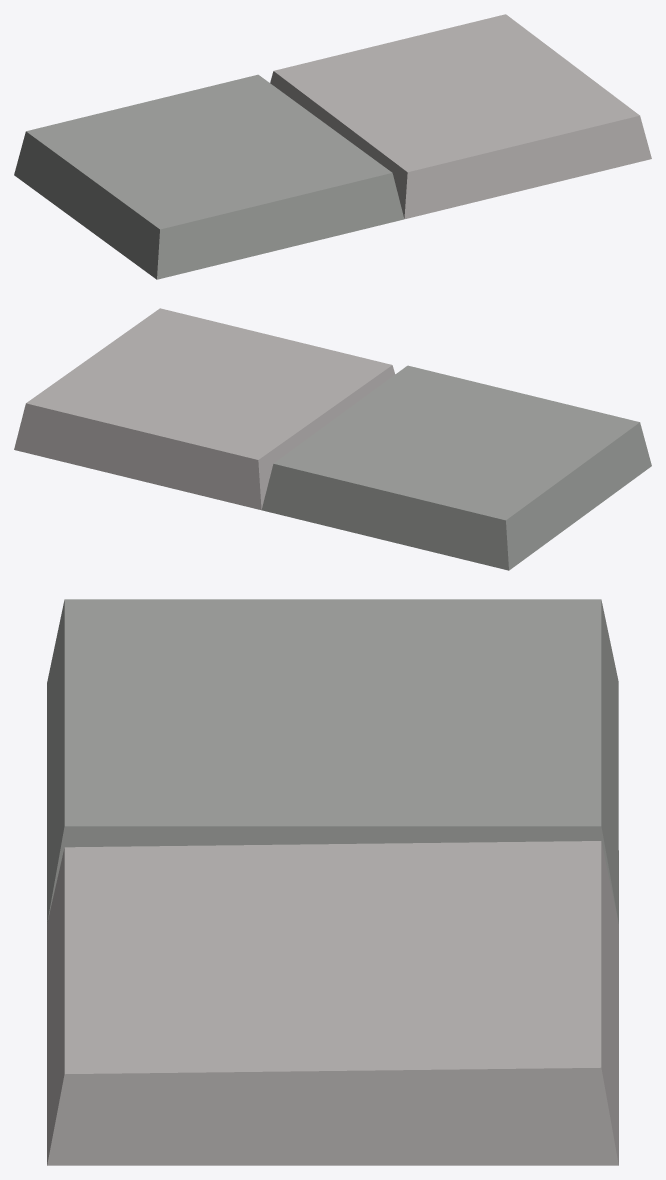
The model's file is Rock_Tiles_m_06.fbx.
3 views of the same model, one above another, from view 1: azimuth 30°, elevation 25°; view 2: azimuth 150°, elevation 25°; view 3: azimuth 270°, elevation 25° (orthographic). The views are drawn at different scales.
Visible parts, largest first — view 1: Rock_Tiles_m_06; view 2: Rock_Tiles_m_06; view 3: Rock_Tiles_m_06.
Boxes of the visible parts, box(x1,y1,x2,y2) form: Rock_Tiles_m_06: box(14, 14, 651, 279); Rock_Tiles_m_06: box(14, 308, 651, 570); Rock_Tiles_m_06: box(47, 599, 618, 1165).
Bounding box in the file's own units: 80 × 6.99 × 40.
